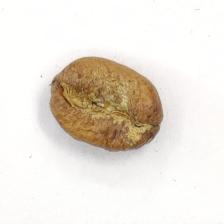NG: (57, 61, 148, 147)
